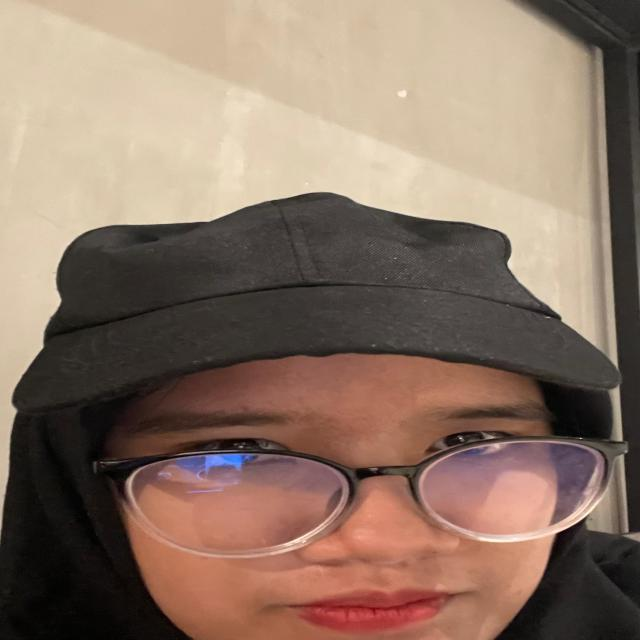3_gorra: (17, 190, 614, 404)
